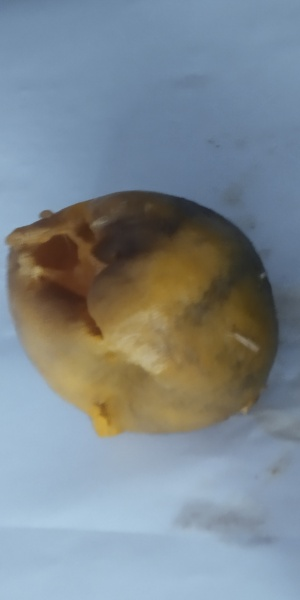BAD: (3, 192, 283, 433)
